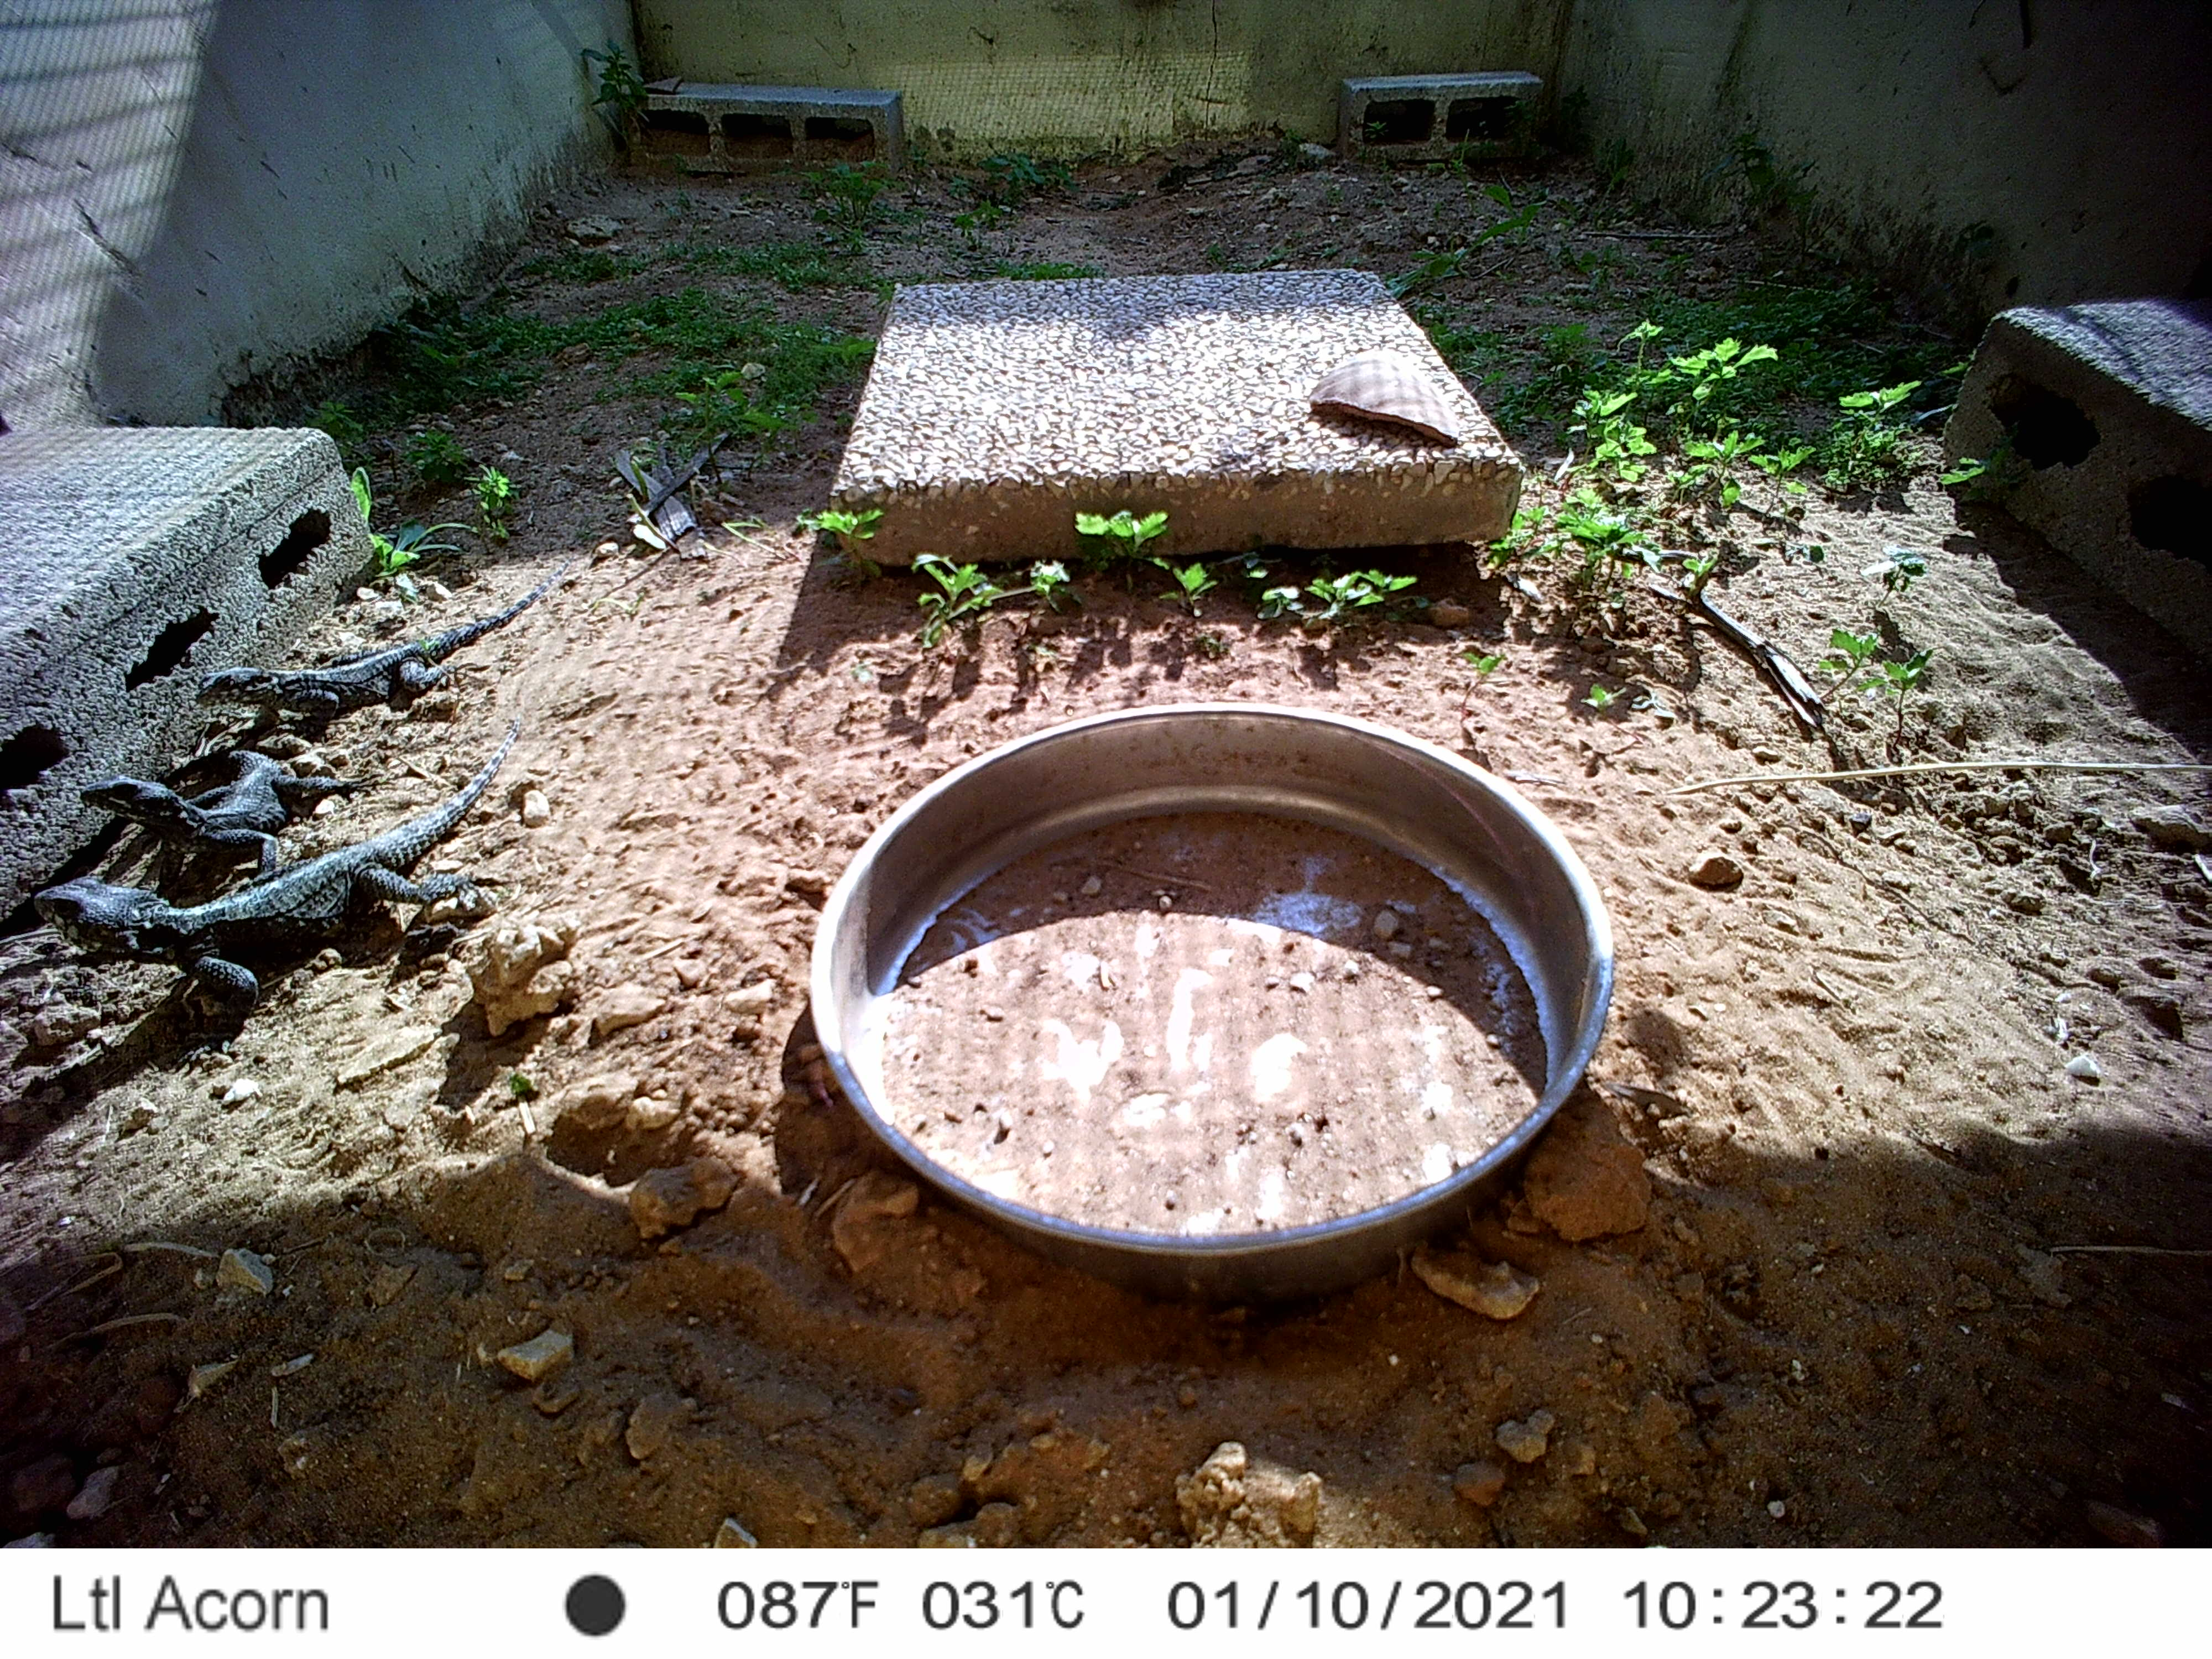lizard: (40, 849, 495, 1026), (193, 561, 571, 732), (80, 737, 354, 873)
